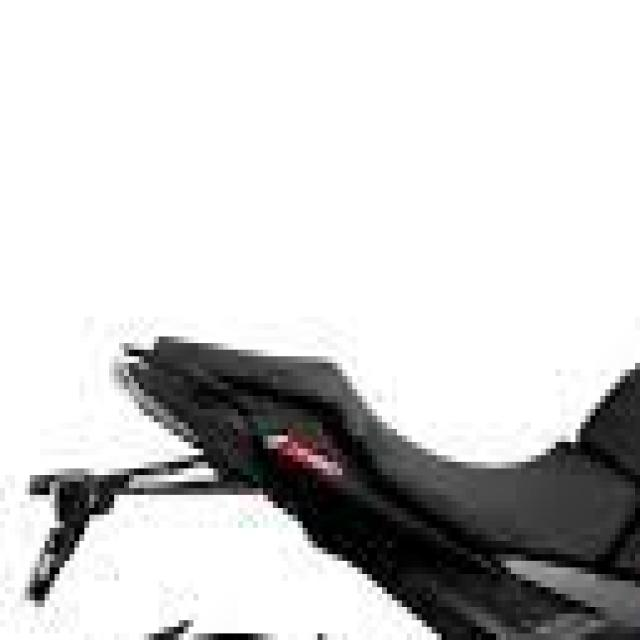bike: (25, 39, 640, 640)
